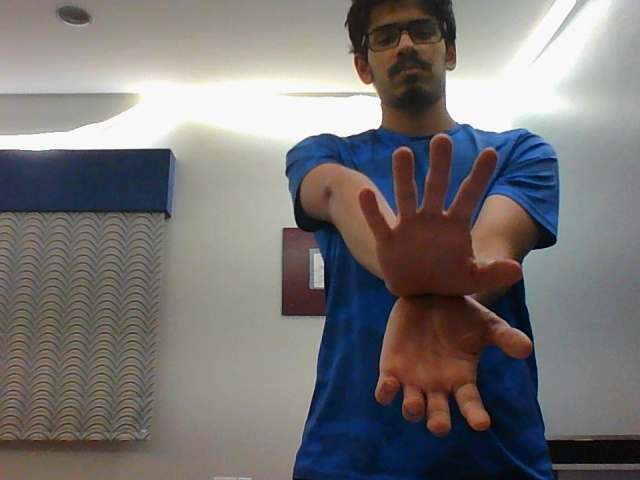blast: (338, 132, 538, 441)
